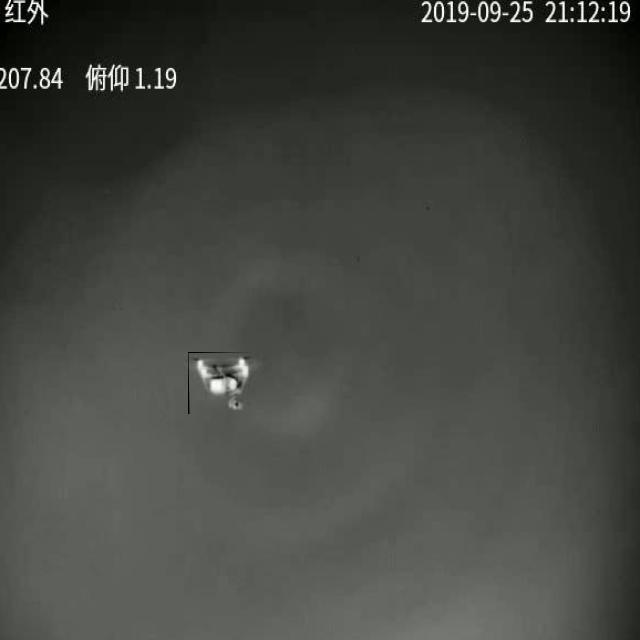drone: (188, 352, 259, 414)
